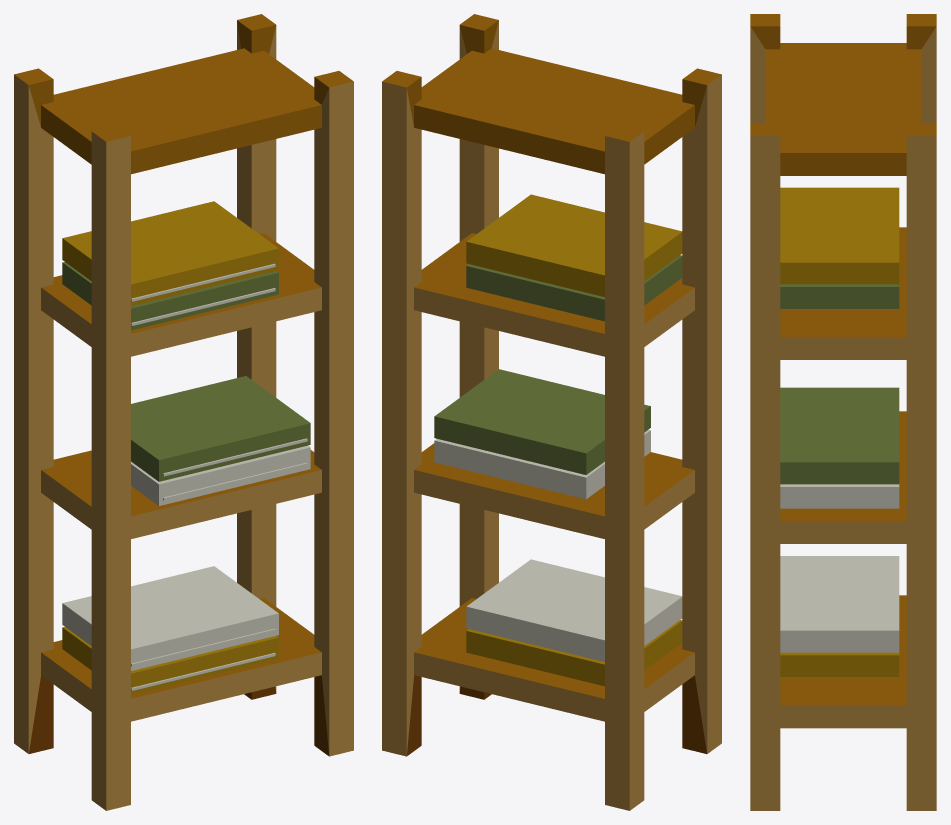
Rendered from towel_shelf.glb.
3 views of the same model, side by side, from view 1: azimuth 30°, elevation 25°; view 2: azimuth 150°, elevation 25°; view 3: azimuth 270°, elevation 25° (orthographic).
Parts seen in each view (by area): view 1: towel_shelf; view 2: towel_shelf; view 3: towel_shelf.
Part boxes in pixels (x1,y1,x2,y2): towel_shelf: [14, 14, 353, 810]; towel_shelf: [382, 14, 721, 810]; towel_shelf: [750, 14, 936, 810].
Size of the model in its own units: 0.62 by 1.6 by 0.4.
